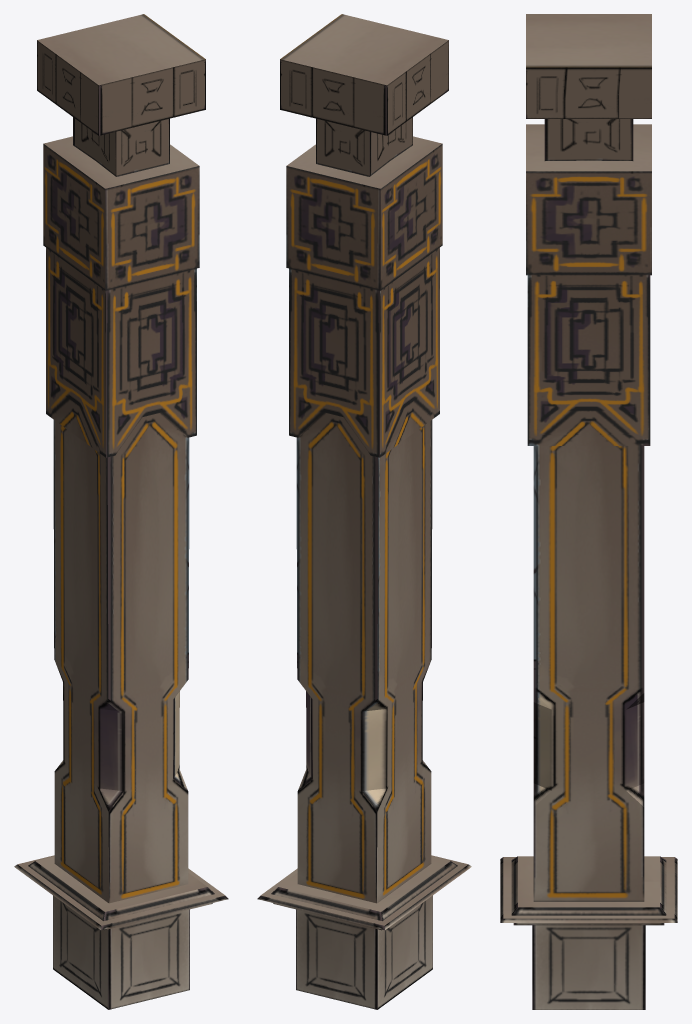
Rendered from single pillar.fbx.
3 renders of one model, left to right at view 1: azimuth 30°, elevation 25°; view 2: azimuth 150°, elevation 25°; view 3: azimuth 270°, elevation 25°, orthographic. The views are drawn at different scales.
Visible parts, largest first — view 1: Cube.157; view 2: Cube.157; view 3: Cube.157.
Part boxes in pixels (x1,y1,x2,y2): Cube.157: (14,14,228,1009); Cube.157: (257,14,471,1009); Cube.157: (500,14,677,1009).
Size of the model in its own units: 6628 by 45959 by 7777.
